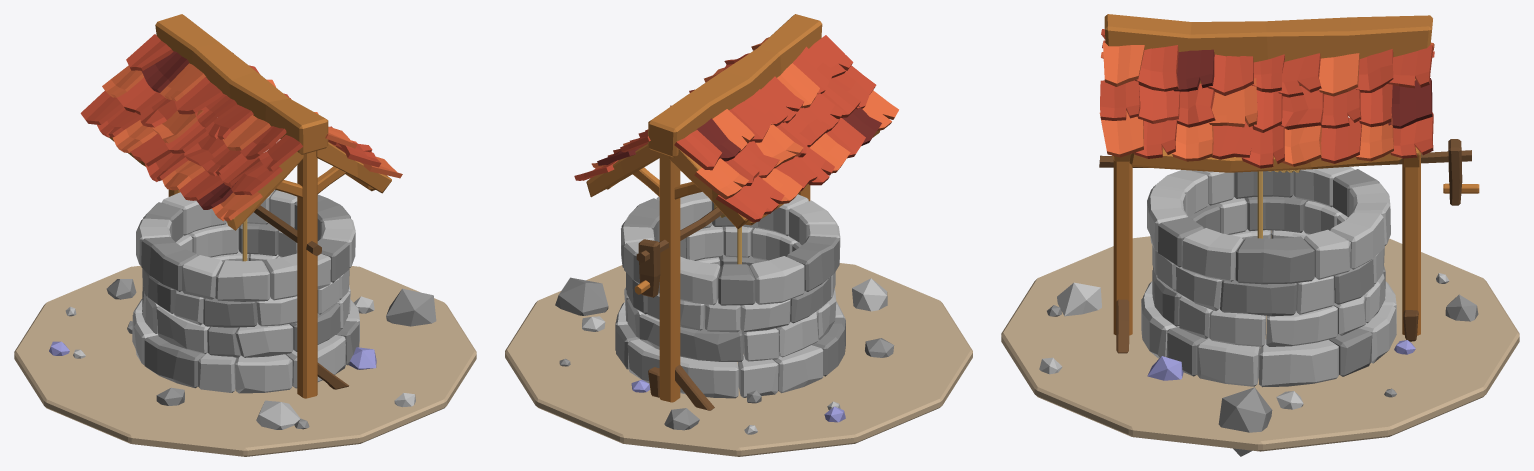
The model's file is well.glb.
3 renders of one model, left to right at view 1: azimuth 30°, elevation 25°; view 2: azimuth 150°, elevation 25°; view 3: azimuth 270°, elevation 25°, orthographic. The views are drawn at different scales.
Parts seen in each view (by area): view 1: Cylinder.004_32, Plane.006_30, Cube.003_8, Cube_5, Cube.002_7, Cube.006_9, Cube.001_6, Cube.005_17, Icosphere.009_42, Plane.000_31, Cube.008_11, Icosphere.003_36 (+4 smaller); view 2: Cylinder.004_32, Plane.006_30, Cube.003_8, Cube.002_7, Cube_5, Cube.006_9, Cube.001_6, Cube.004_16, Icosphere.009_42, Cube.007_10, Plane.000_31, Cube.013_14 (+6 smaller); view 3: Cylinder.004_32, Plane.000_31, Cube.003_8, Cube.006_9, Cube.002_7, Cube_5, Cube.001_6, Cube.005_17, Cube.004_16, Cube.009_12, Icosphere.009_42, Icosphere.003_36 (+5 smaller).
Part boxes in pixels (<box>): Cylinder.004_32: <box>14,265,476,456</box>; Plane.006_30: <box>80,34,302,221</box>; Cube.003_8: <box>136,189,355,301</box>; Cube_5: <box>132,299,359,393</box>; Cube.002_7: <box>142,223,349,327</box>; Cube.006_9: <box>155,14,328,154</box>; Cube.001_6: <box>142,250,350,357</box>; Cube.005_17: <box>297,151,317,398</box>; Icosphere.009_42: <box>386,288,436,326</box>; Plane.000_31: <box>233,53,402,178</box>; Cube.008_11: <box>316,142,391,193</box>; Icosphere.003_36: <box>256,400,300,429</box>; Cylinder.004_32: <box>505,263,972,456</box>; Plane.006_30: <box>674,35,898,222</box>; Cube.003_8: <box>621,192,840,305</box>; Cube.002_7: <box>626,224,835,332</box>; Cube_5: <box>615,301,845,398</box>; Cube.006_9: <box>647,14,822,157</box>; Cube.001_6: <box>624,253,836,361</box>; Cube.004_16: <box>659,153,680,402</box>; Icosphere.009_42: <box>555,277,608,315</box>; Cube.007_10: <box>586,144,660,197</box>; Plane.000_31: <box>574,37,769,180</box>; Cube.013_14: <box>669,149,748,228</box>; Cylinder.004_32: <box>1001,230,1519,451</box>; Plane.000_31: <box>1099,42,1433,168</box>; Cube.003_8: <box>1147,166,1390,284</box>; Cube.006_9: <box>1104,14,1432,62</box>; Cube.002_7: <box>1152,194,1384,316</box>; Cube_5: <box>1141,281,1396,387</box>; Cube.001_6: <box>1152,229,1385,346</box>; Cube.005_17: <box>1113,160,1132,335</box>; Cube.004_16: <box>1402,152,1420,335</box>; Cube.009_12: <box>1129,147,1401,172</box>; Icosphere.009_42: <box>1218,387,1272,456</box>; Icosphere.003_36: <box>1057,282,1101,316</box>.
Size of the model in its own units: 27.46 by 20.2 by 27.46.
